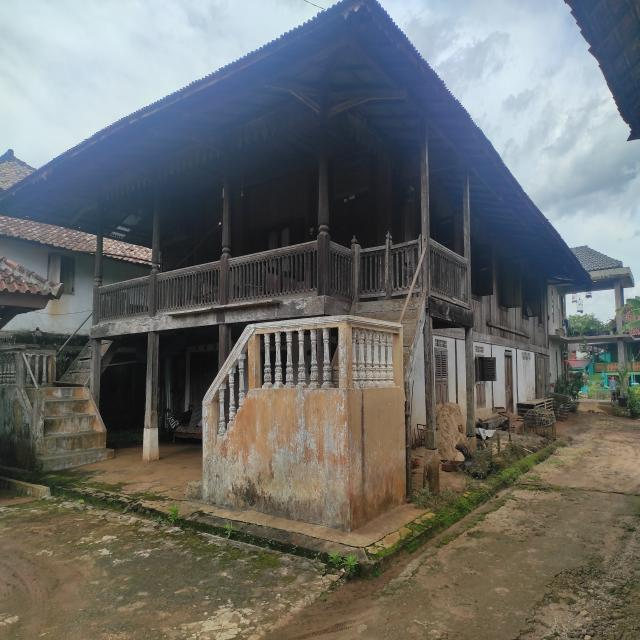Ornamen: (99, 238, 469, 321)
